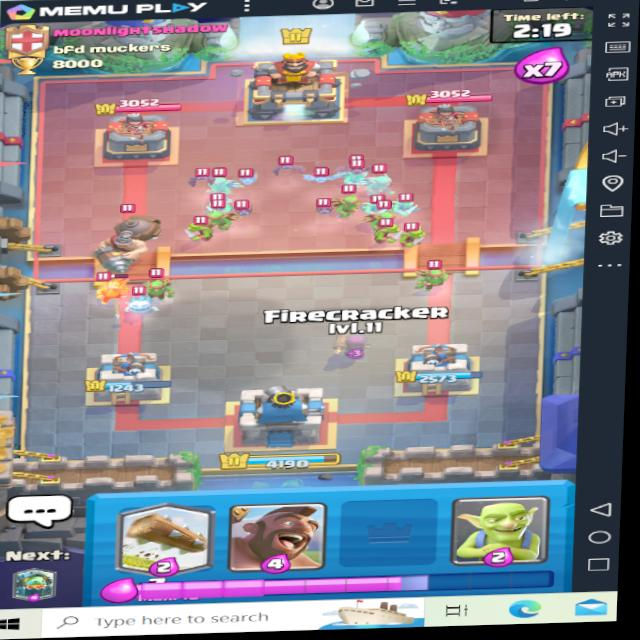bats: (325, 154, 380, 180), (266, 154, 316, 181), (177, 166, 225, 189), (228, 195, 264, 219), (311, 194, 334, 218)
goblin: (397, 220, 438, 249), (371, 220, 401, 246), (184, 217, 210, 243)
ice-spirit: (120, 287, 168, 321)
mighty-miner: (87, 202, 166, 275)
spear-goblin: (134, 269, 176, 301), (199, 205, 237, 233), (98, 271, 127, 304), (417, 257, 447, 287), (339, 191, 366, 218)
